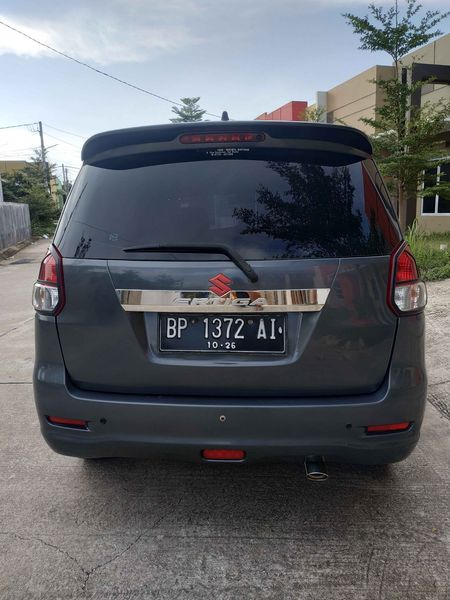plate: (157, 312, 288, 363)
